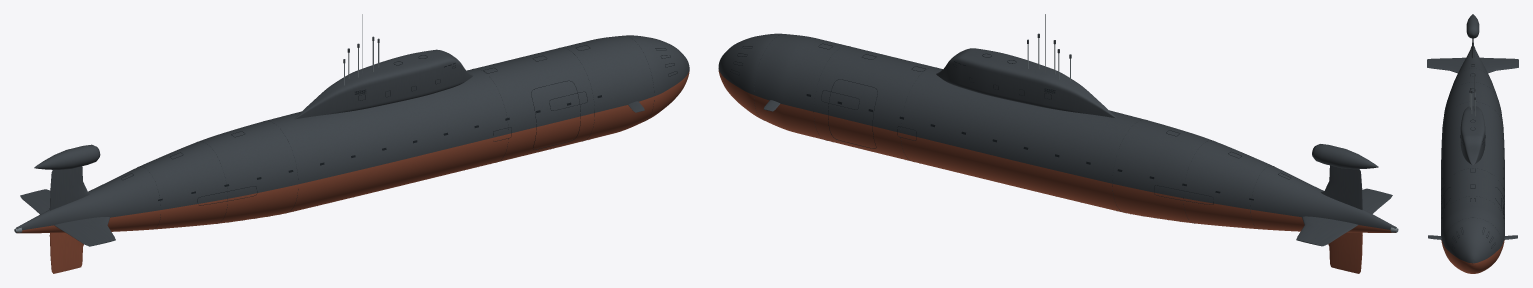
File: RU_SSN_Akula_LOD1.fbx
The picture shows the model from 3 angles, left to right: view 1: azimuth 30°, elevation 25°; view 2: azimuth 150°, elevation 25°; view 3: azimuth 270°, elevation 25°; orthographic projection. The views are drawn at different scales.
Visible parts, largest first — view 1: RU_SSN_Akula_HULL_LOD1; view 2: RU_SSN_Akula_HULL_LOD1; view 3: RU_SSN_Akula_HULL_LOD1.
Boxes of the visible parts, x1,y1,x2,y2 form: RU_SSN_Akula_HULL_LOD1: (14, 14, 689, 273); RU_SSN_Akula_HULL_LOD1: (718, 14, 1398, 273); RU_SSN_Akula_HULL_LOD1: (1427, 14, 1518, 273).
Size of the model in its own units: 109 by 19.6 by 28.44.
